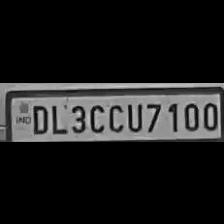0: (180, 98, 200, 130), (200, 98, 218, 130)
1: (162, 99, 180, 131)
3: (67, 100, 87, 132)
7: (142, 99, 162, 131)
C: (87, 99, 105, 131), (106, 99, 124, 131)
D: (28, 101, 48, 133)
L: (49, 101, 67, 133)
U: (124, 99, 142, 131)
